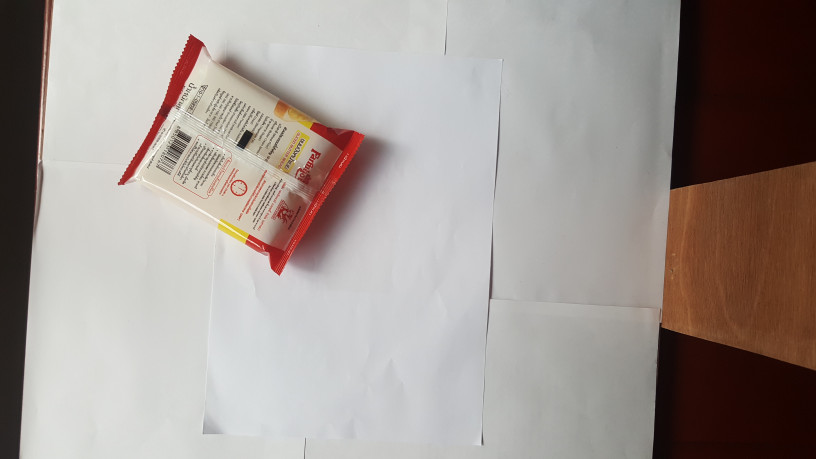farmhouse-bread-butter: (113, 34, 369, 283)
